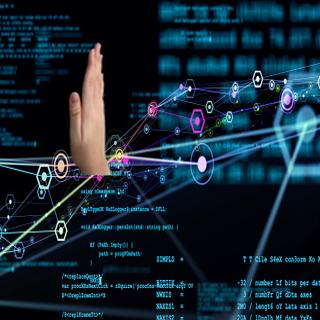Right: (66, 39, 117, 181)
